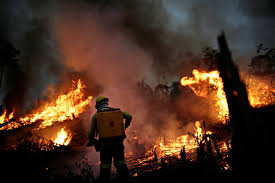smoke: (2, 1, 273, 94)
